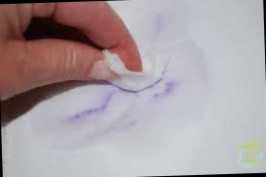ink: (73, 99, 108, 122), (157, 81, 181, 100)
